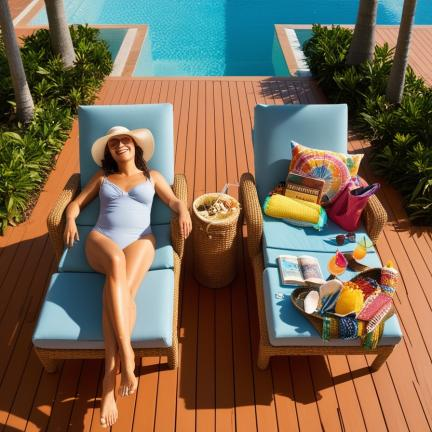guest on chair: (33, 104, 192, 427)
occupied chair: (240, 105, 402, 369)
